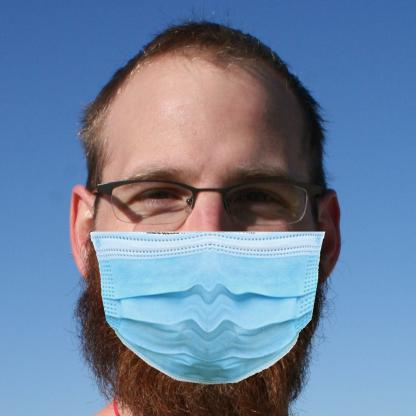Correctly_Masked: (92, 76, 326, 386)
